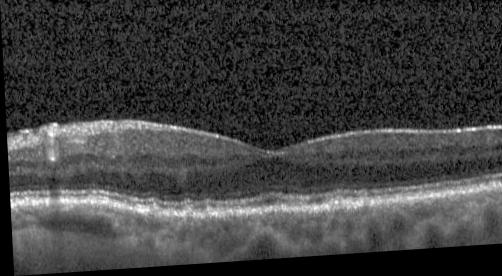retinal_drusen: (143, 204, 158, 217), (201, 208, 215, 221), (180, 206, 192, 221), (328, 202, 341, 215)
